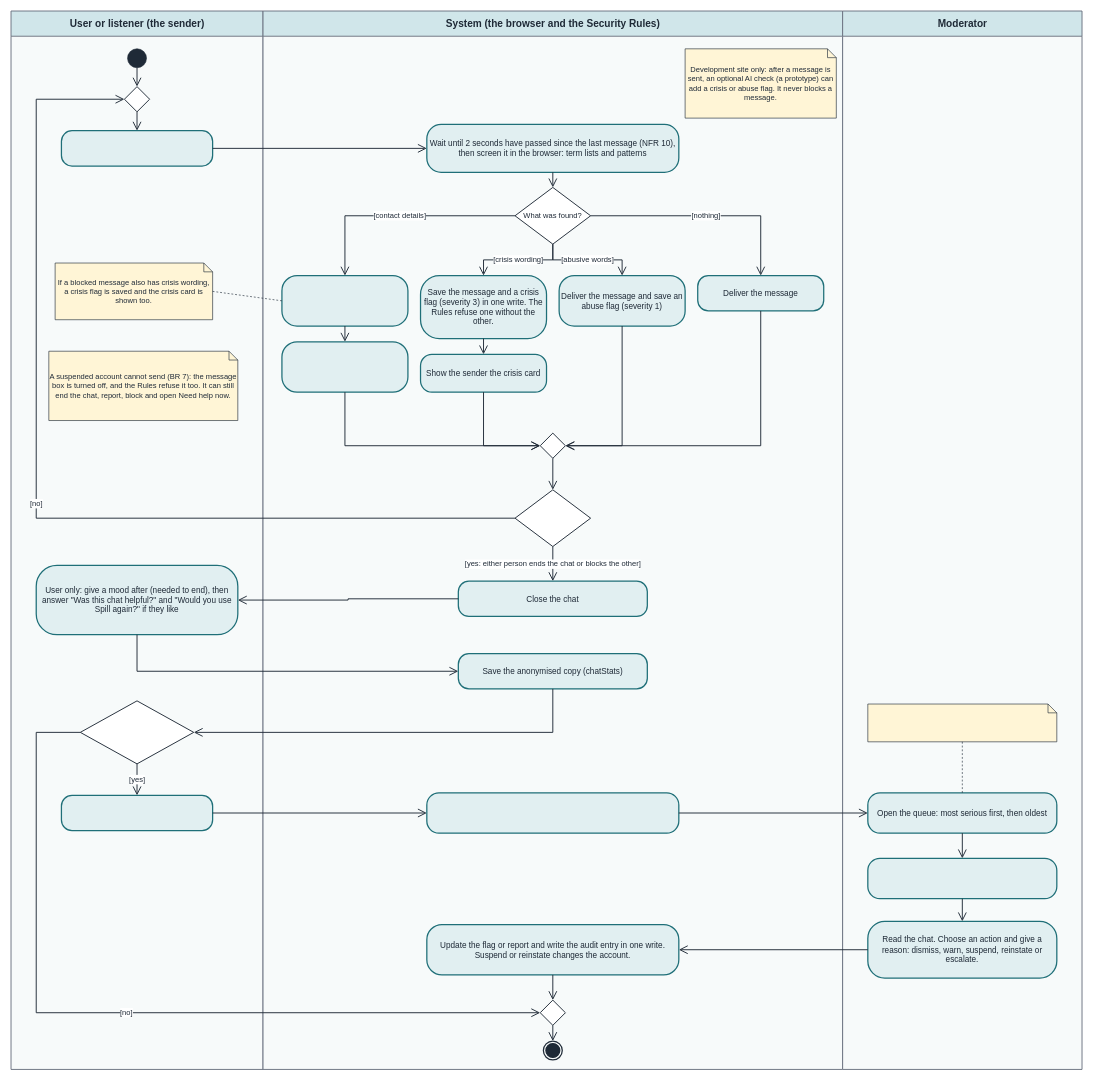
Image size: 1094x1081. Some labels were removed from this diagram. Here are the shapes that lost their labels. From the top down, the centre of each, then its label:
[136,148]: Type and send a message
[344,300]: Not sent (the Rules refuse it too). The sender is warned.
[344,366]: Save a blocked-attempt flag: severity 2, or 3 for a listener
[552,518]: Chat ended?
[137,732]: Report the other person?
[962,722]: Flags saved during screening join the same queue.
[136,812]: Report with a reason
[552,812]: Save the report (severity 2) and mark the chat as flagged
[962,878]: Open a case on the chat (written to the audit log)
